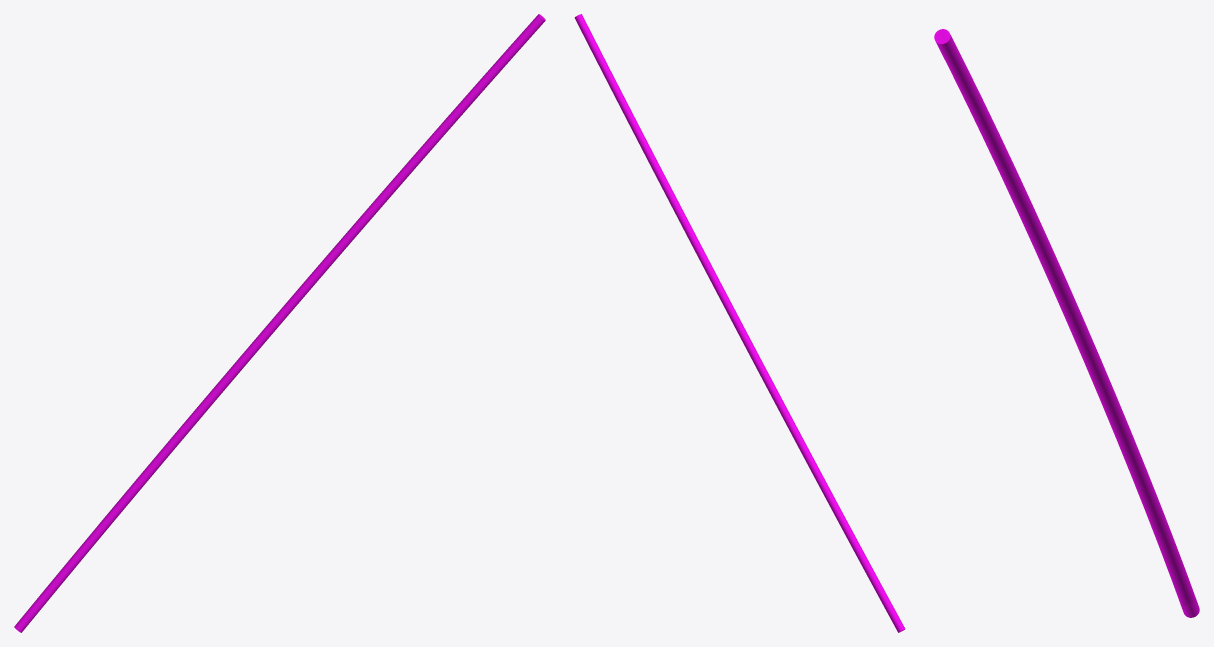
File: Event_421127236_electron_0.fbx
The picture shows the model from 3 angles, left to right: view 1: azimuth 30°, elevation 25°; view 2: azimuth 150°, elevation 25°; view 3: azimuth 270°, elevation 25°; orthographic projection. The views are drawn at different scales.
Visible parts, largest first — view 1: Model; view 2: Model; view 3: Model.
Part boxes in pixels (bbox=[...]): Model: bbox=[14, 14, 545, 632]; Model: bbox=[574, 14, 905, 632]; Model: bbox=[934, 29, 1199, 617].
Size of the model in its own units: 2.18 by 2.55 by 0.6398.
